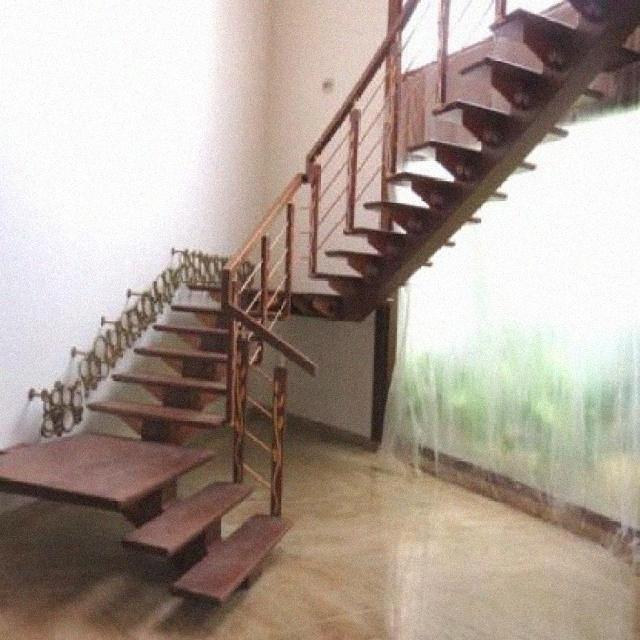stair: (22, 11, 568, 634)
